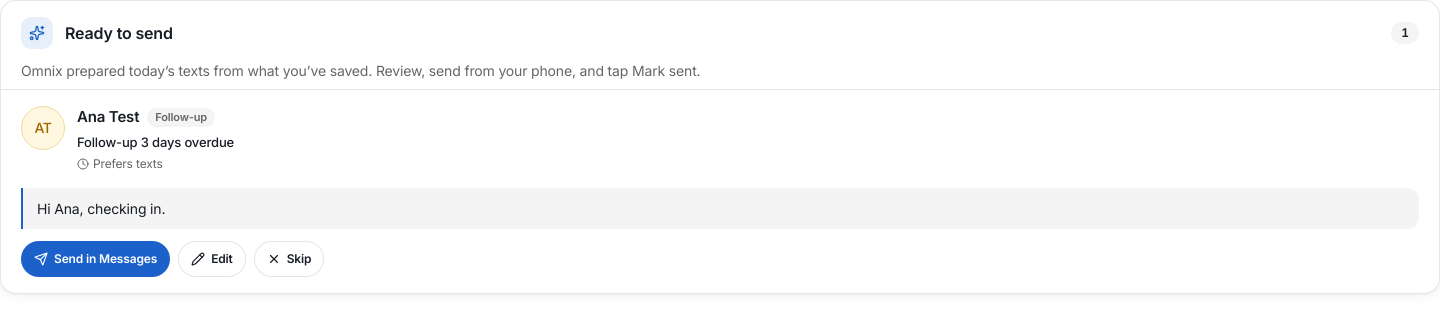
Scenario: ReadyToSend › opens Messages first, then logs the text only on Mark sent
The width and height of the screenshot is (1440, 312).
Expected: the text "Prefers texts" is shown, 77,155 -> 163,173
Click the link "Send in Messages".
click(96, 259)  # box 21,241 -> 170,277
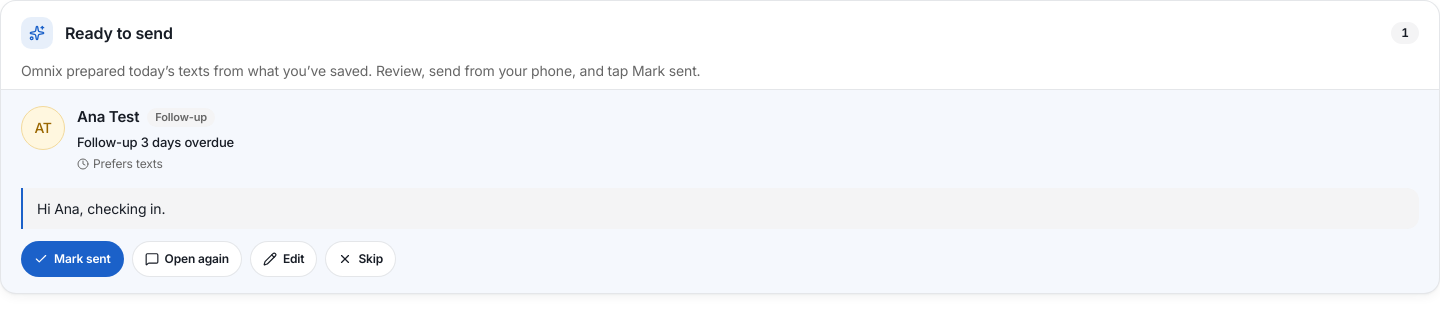
Click the button "Mark sent".
click(72, 259)  # box 21,241 -> 124,277
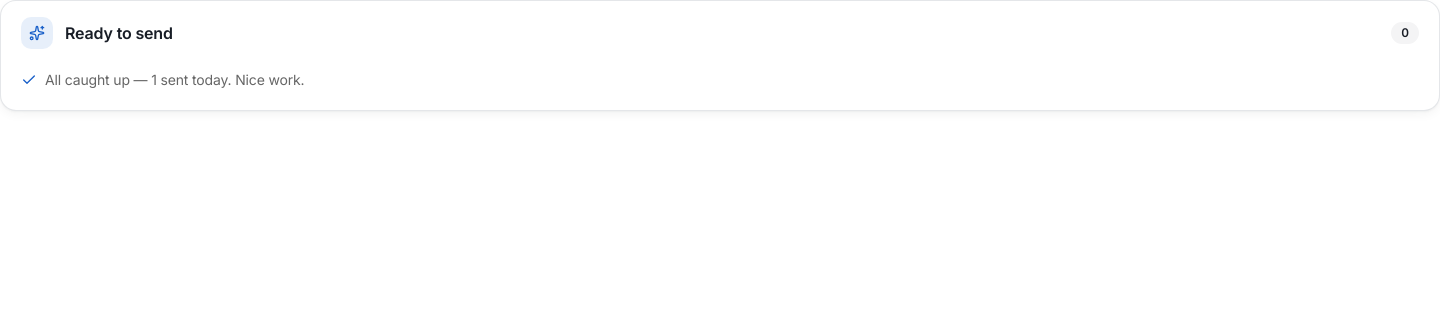
Now the text "All caught up — 1 sent today. Nice work." is shown, box 21,71 -> 304,88
